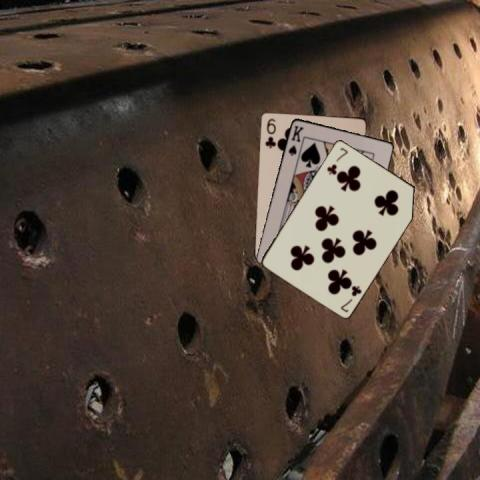6c: (262, 116, 277, 150)
7c: (338, 282, 364, 313), (324, 144, 349, 176)
Ks: (285, 122, 305, 157)
